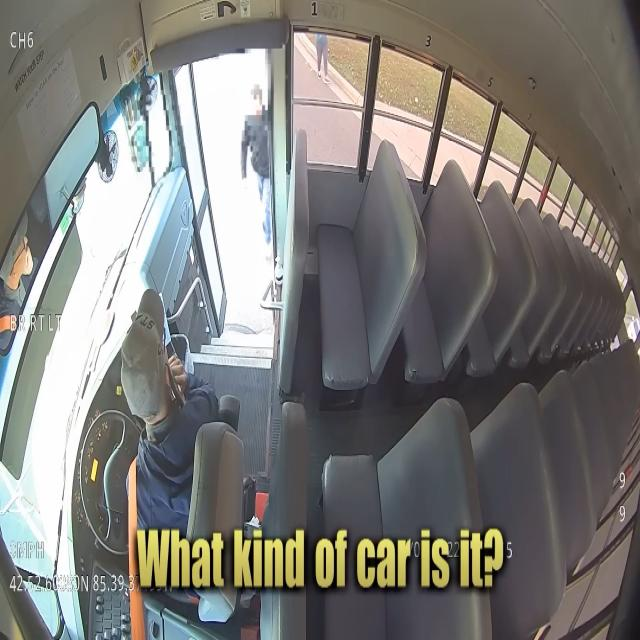bus-door: (171, 64, 226, 336)
